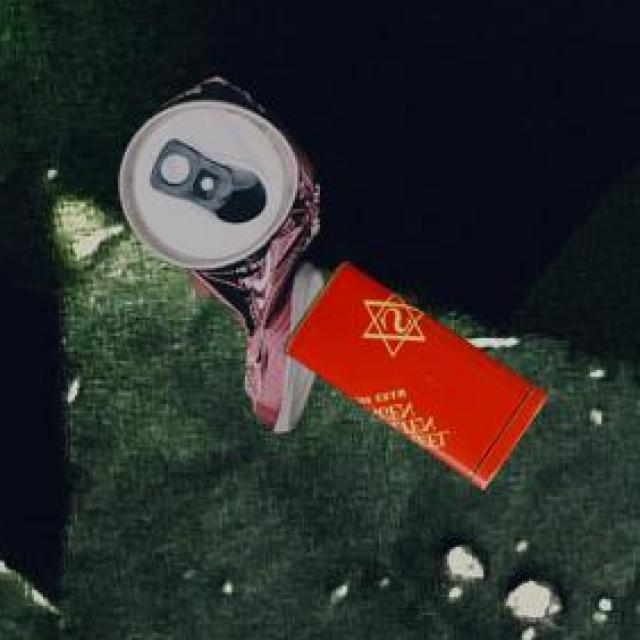logam: (117, 81, 321, 437), (280, 264, 544, 491)
